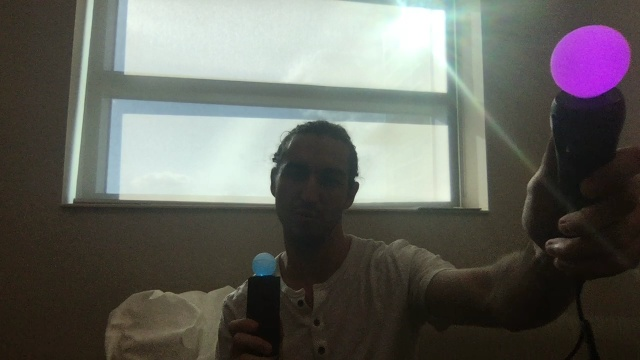wand: (550, 25, 631, 98), (252, 252, 277, 277)
